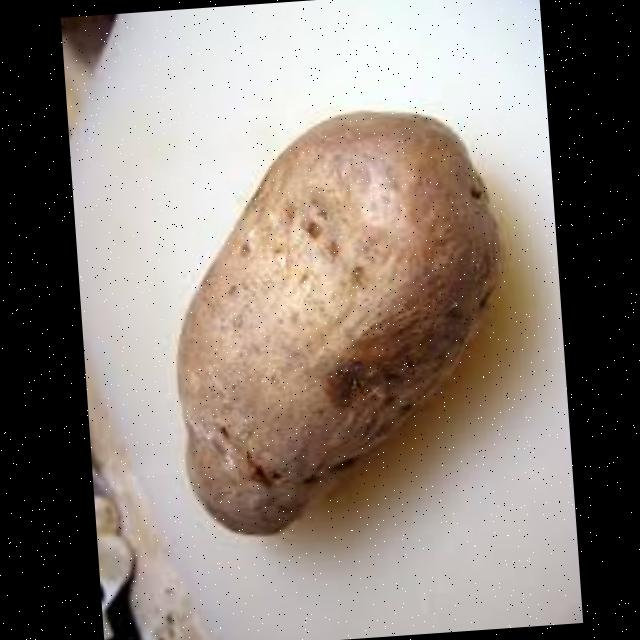Damaged potato: (148, 87, 528, 560)
